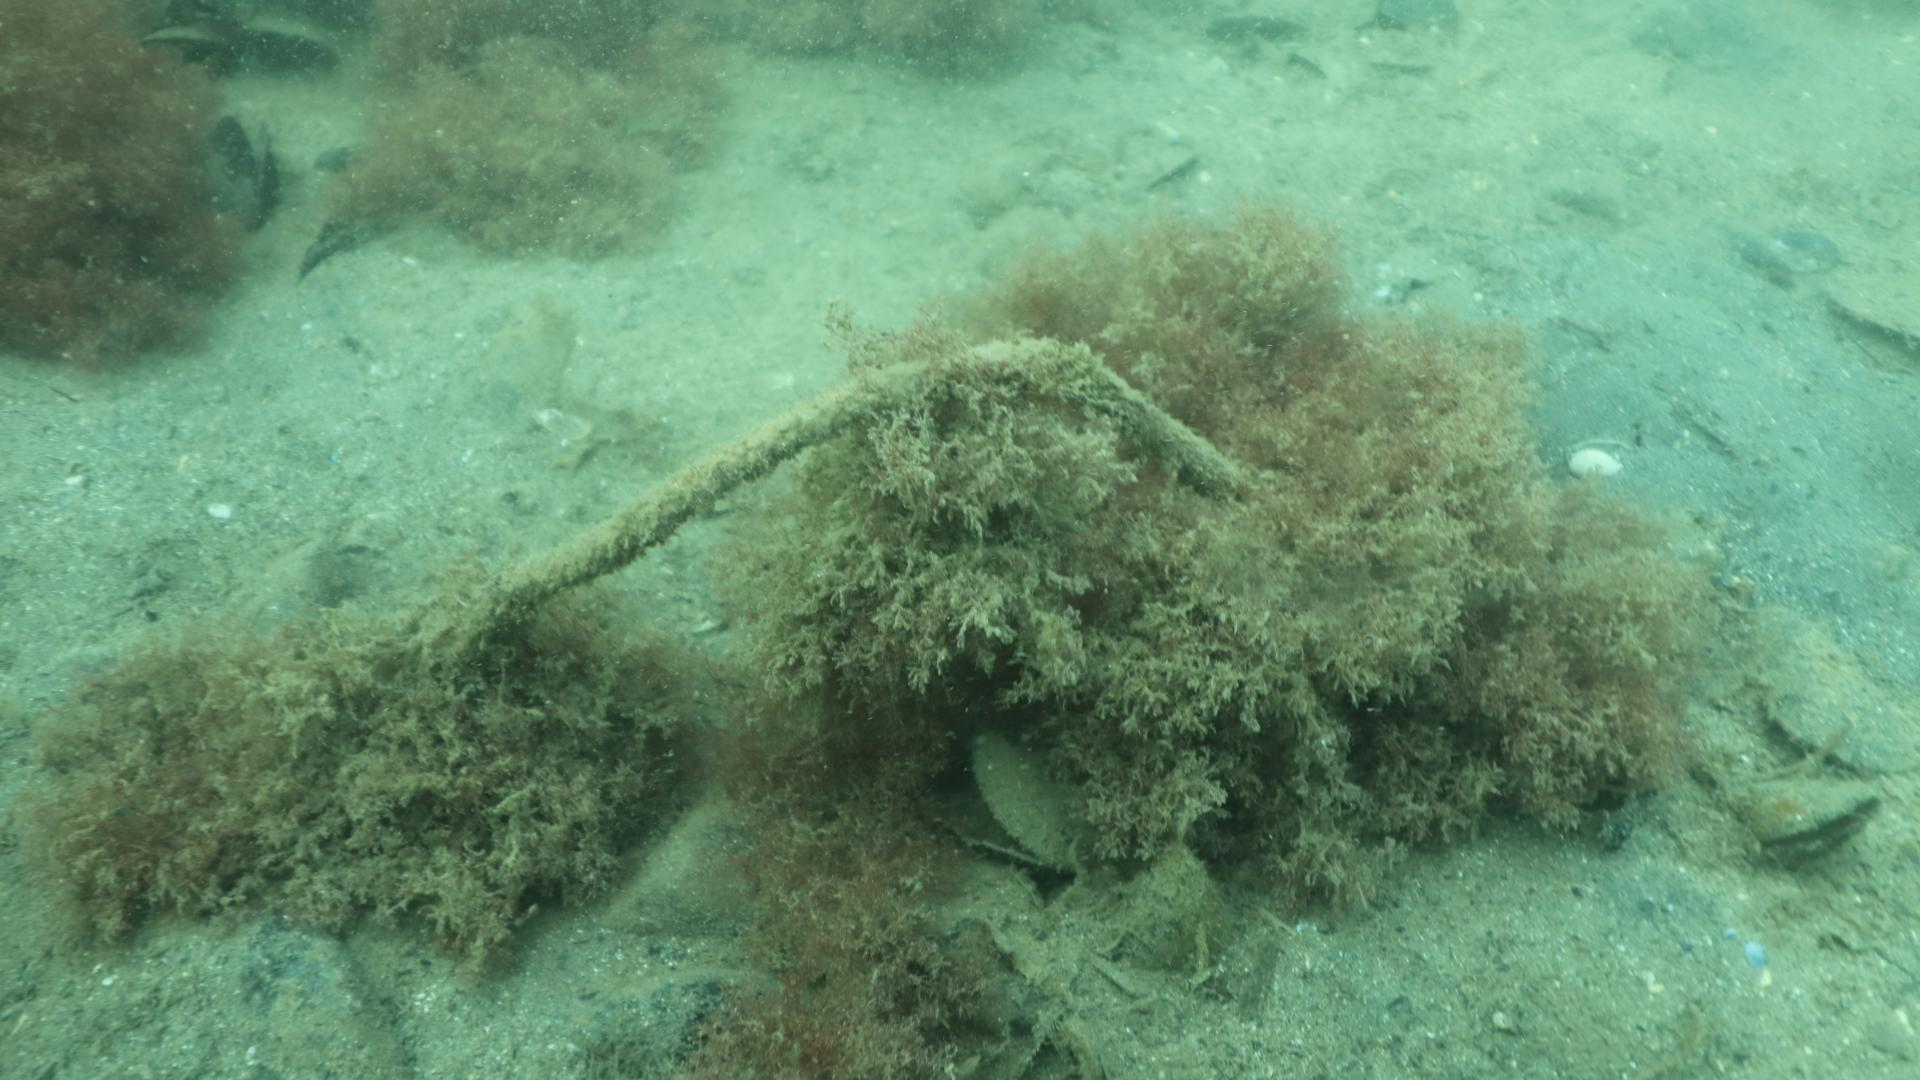rope: (496, 334, 1247, 605)
